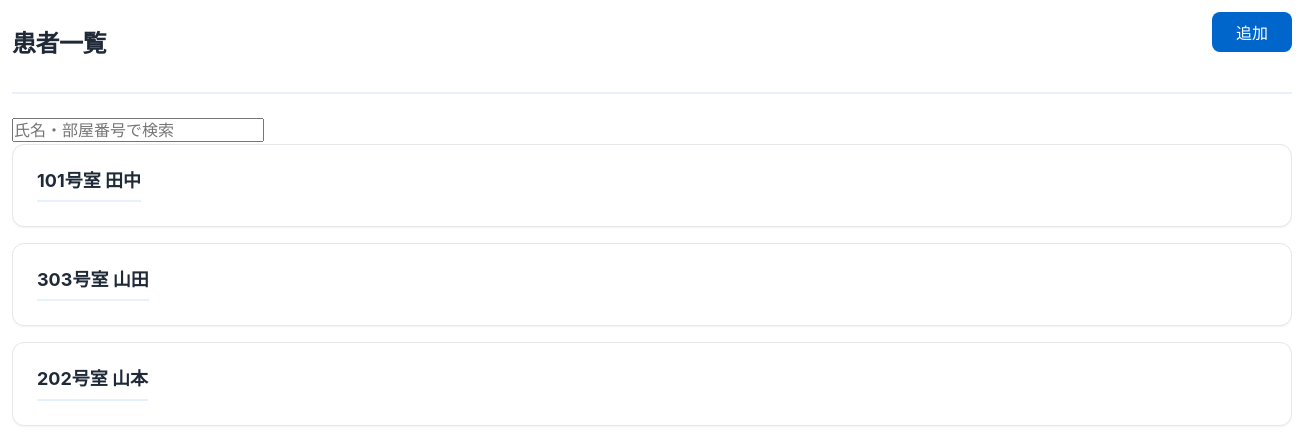
Scenario: PatientList › 氏名の一部分でも検索できるテスト
Type "田" into the field named "患者検索". click: (138, 130)
box: [12, 118, 264, 142]
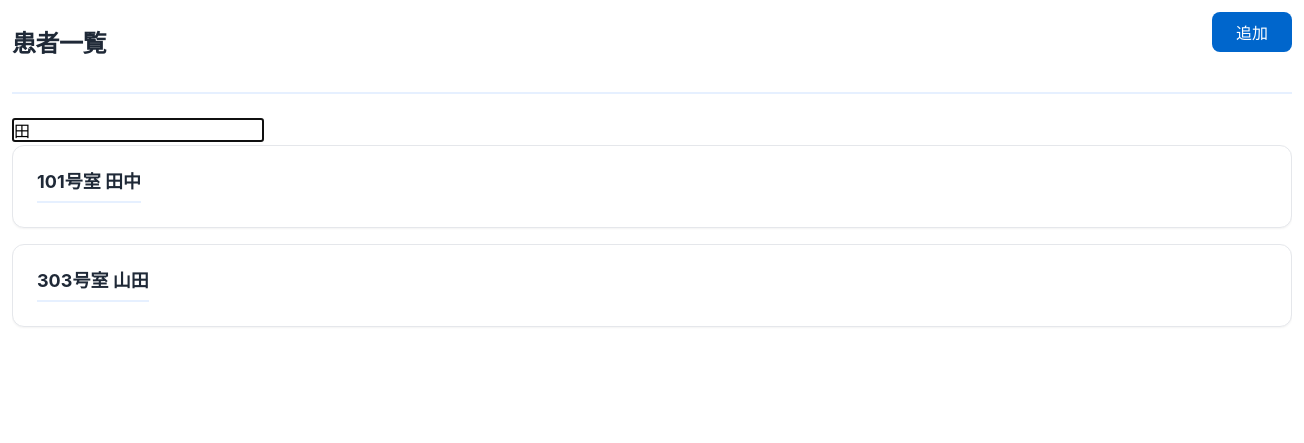
Check: the heading "101号室 田中" is shown, box [37, 170, 141, 203]
Check: the heading "202号室 山本" is gone
